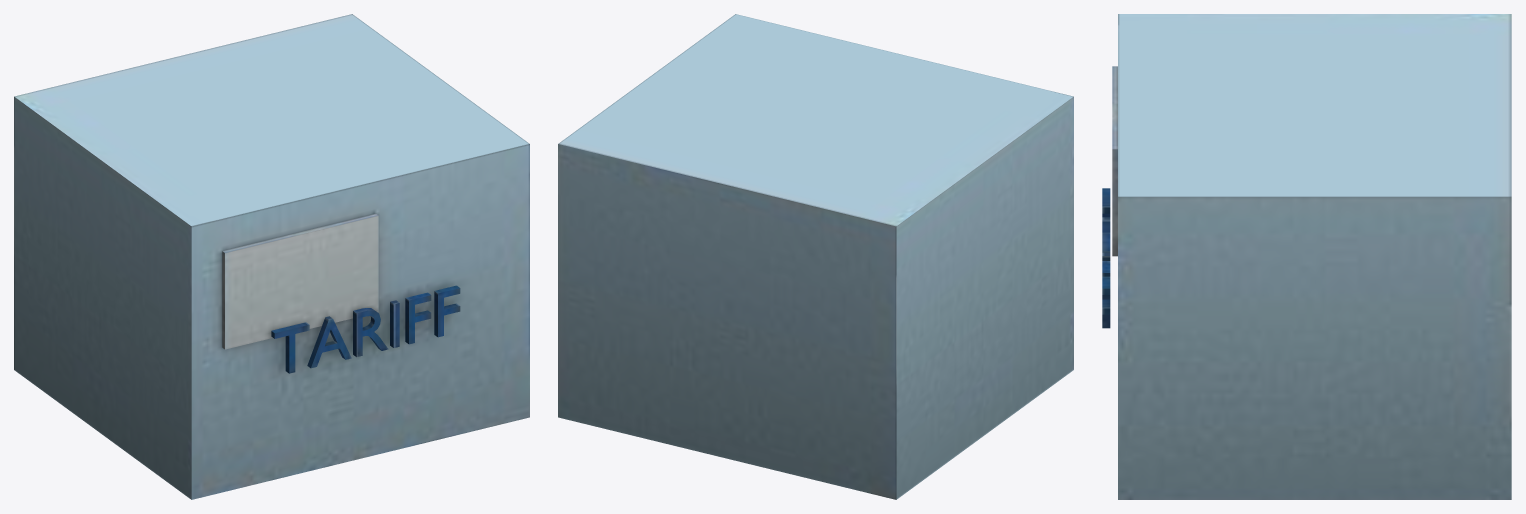
The model's file is bloque_hielo.glb.
3 renders of one model, left to right at view 1: azimuth 30°, elevation 25°; view 2: azimuth 150°, elevation 25°; view 3: azimuth 270°, elevation 25°, orthographic. The views are drawn at different scales.
Parts seen in each view (by area): view 1: bloque_hielo; view 2: bloque_hielo; view 3: bloque_hielo.
Part boxes in pixels (x1,y1,x2,y2): bloque_hielo: (14,14,529,499); bloque_hielo: (558,14,1073,499); bloque_hielo: (1102,14,1511,499).
Size of the model in its own units: 1.1 by 0.85 by 1.04.
Materials: 1 (1 with a texture image).
